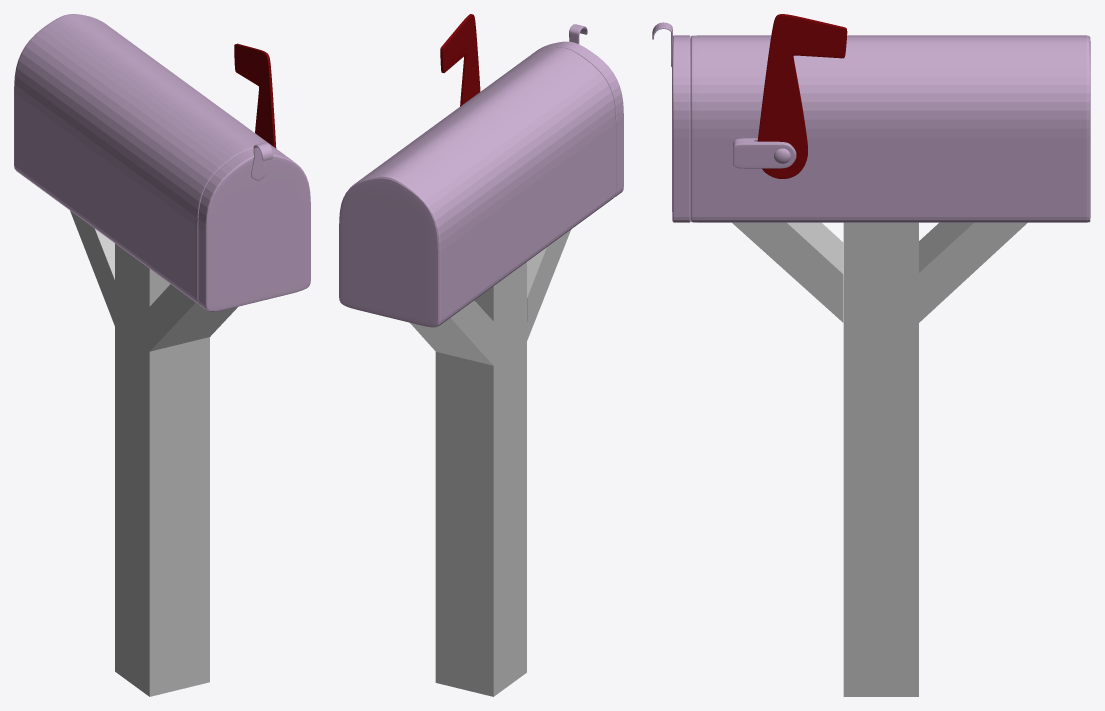
File: mofx_mailbox.obj
3 views of the same model, side by side, from view 1: azimuth 30°, elevation 25°; view 2: azimuth 150°, elevation 25°; view 3: azimuth 270°, elevation 25° (orthographic). The views are drawn at different scales.
Parts seen in each view (by area): view 1: 3_3, Mesh_9_9, 4_4, 7_7, 5_5, 8_8, 2_2; view 2: 3_3, Mesh_9_9, 8_8, 5_5, 7_7, 4_4; view 3: 3_3, Mesh_9_9, 5_5, 7_7, 8_8, 4_4, 1_1.
Boxes of the visible parts, x1,y1,x2,y2 form: 3_3: (14,14,285,304); Mesh_9_9: (115,243,209,696); 4_4: (198,149,310,311); 7_7: (149,284,237,351); 5_5: (234,43,276,148); 8_8: (70,210,114,325); 2_2: (251,142,272,180); 3_3: (339,47,615,327); Mesh_9_9: (435,262,526,696); 8_8: (410,300,493,365); 5_5: (440,14,480,106); 7_7: (527,229,571,340); 4_4: (531,41,623,196); 3_3: (691,35,1090,222); Mesh_9_9: (843,222,918,696); 5_5: (757,14,847,178); 7_7: (732,222,843,322); 8_8: (919,222,1027,322); 4_4: (672,35,690,222); 1_1: (733,138,796,168).
Bounding box in the file's own units: 15.9 × 81.55 × 46.5.
